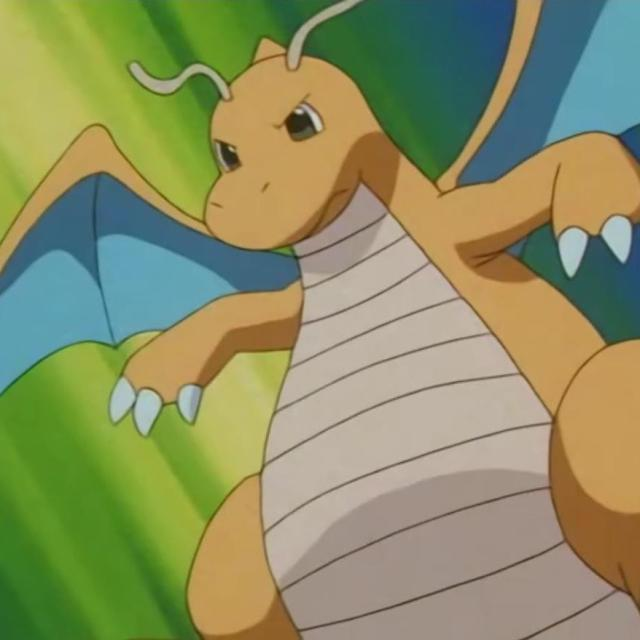Dragonite: (73, 34, 603, 572)
